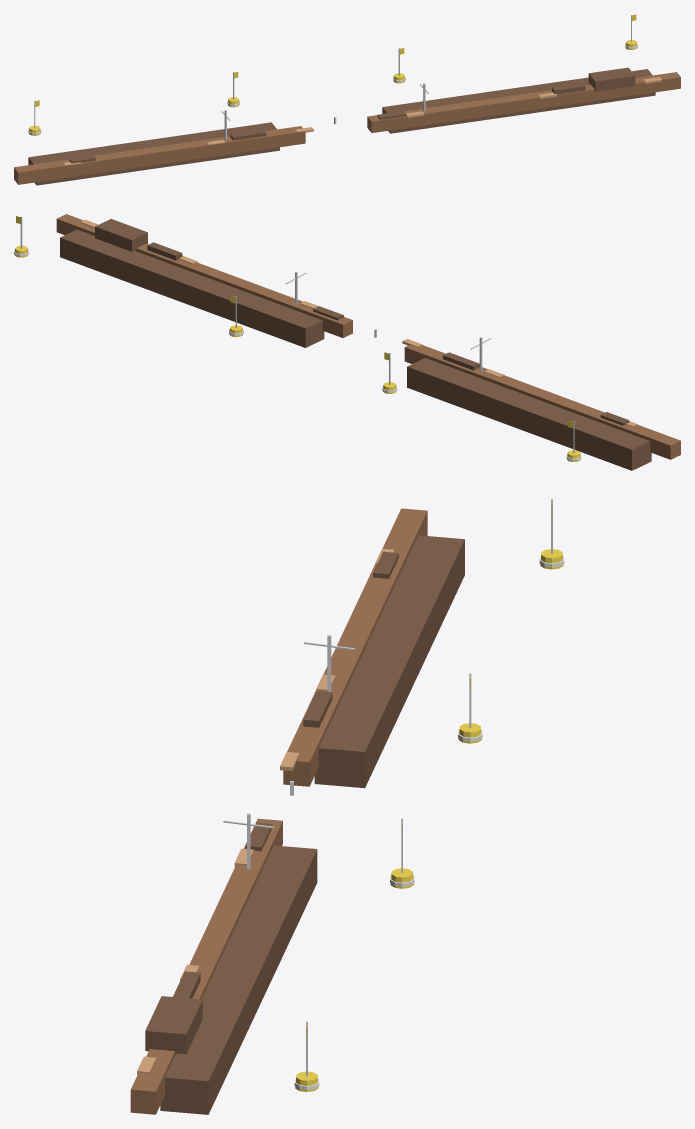
File: nw_antilla.glb
3 renders of one model, top to bottom at view 1: azimuth 30°, elevation 25°; view 2: azimuth 150°, elevation 25°; view 3: azimuth 270°, elevation 25°, orthographic. The views are drawn at different scales.
Parts seen in each view (by area): view 1: nw_antilla_lod0; view 2: nw_antilla_lod0; view 3: nw_antilla_lod0.
Part boxes in pixels (<box>): nw_antilla_lod0: <box>14,14,680,185</box>; nw_antilla_lod0: <box>14,214,680,470</box>; nw_antilla_lod0: <box>130,499,564,1114</box>.
Size of what is drawn, in the model's own units: 118 by 9.77 by 37.15.
